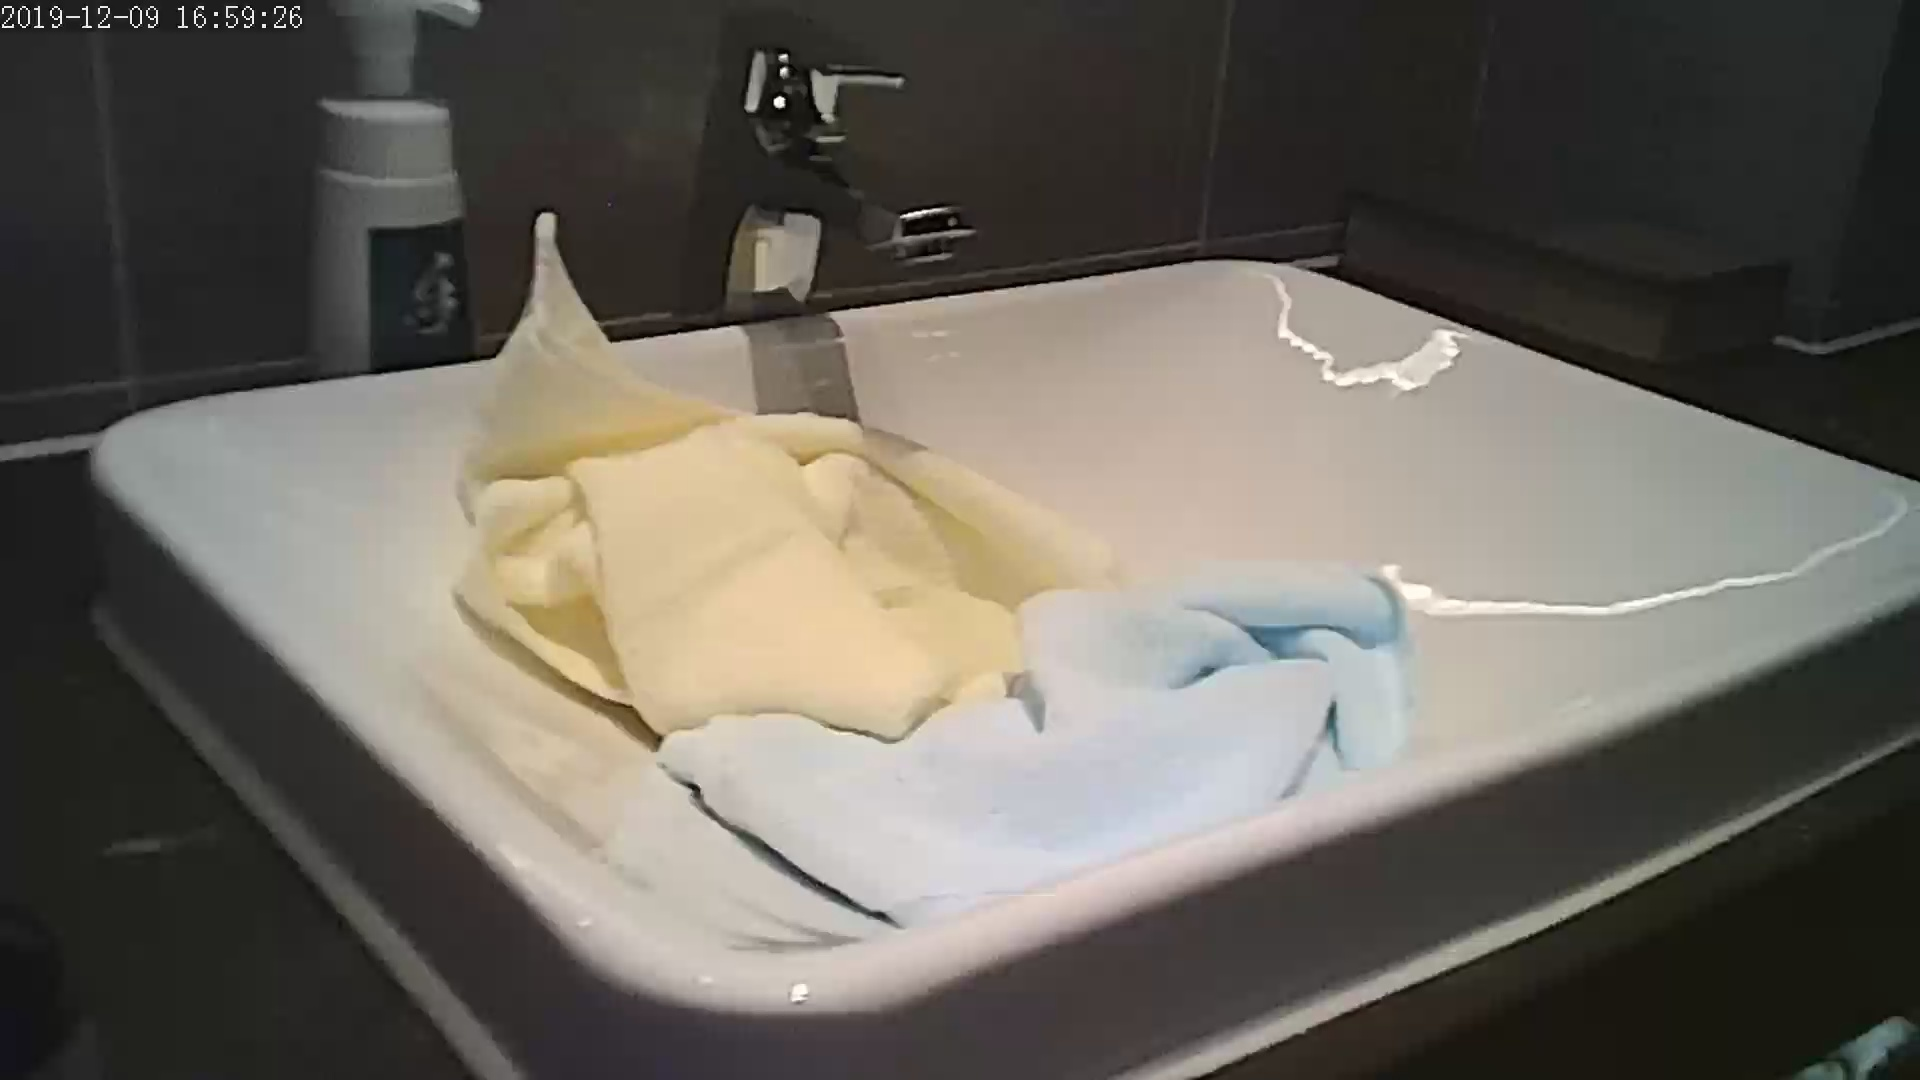bluecloth: (824, 597, 1389, 895)
sink: (69, 34, 1900, 1059)
yellowcloth: (485, 345, 980, 713)
